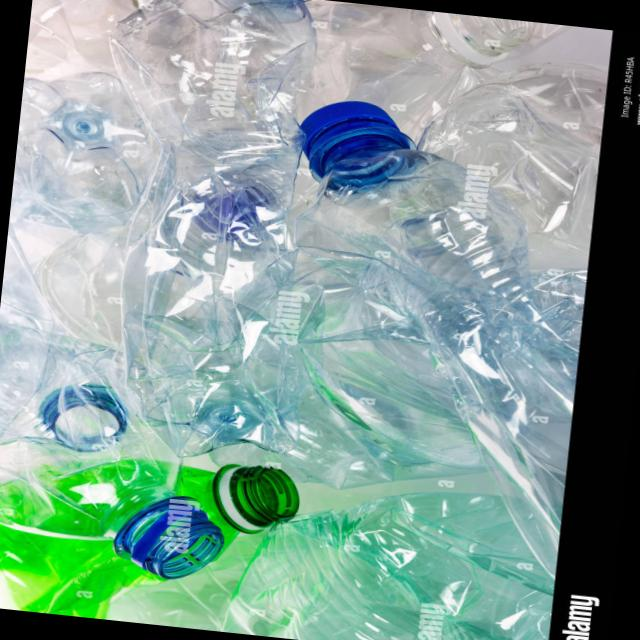plastic_bottle: (0, 324, 233, 592)
